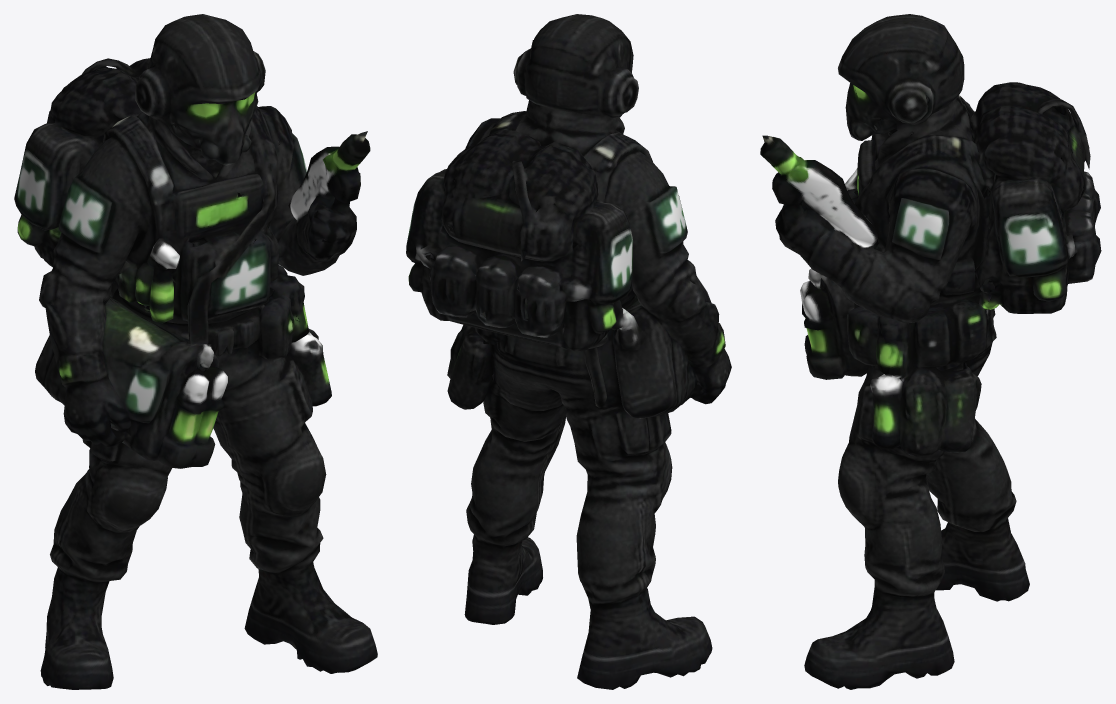
Rendered from medic_l03.glb.
3 renders of one model, left to right at view 1: azimuth 30°, elevation 25°; view 2: azimuth 150°, elevation 25°; view 3: azimuth 270°, elevation 25°, orthographic. The views are drawn at different scales.
Visible parts, largest first — view 1: world; view 2: world; view 3: world.
Part boxes in pixels (x1,y1,x2,y2): world: (14, 14, 377, 689); world: (406, 14, 731, 689); world: (760, 14, 1101, 689).
Bounding box in the file's own units: 0.4602 × 1 × 0.5086.
1 material, 1 textured.
